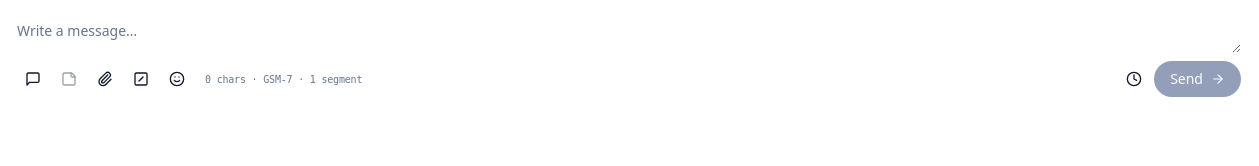
Composer reply/note toggle › typing / opens the saved-reply list and requests /api/v1/templates?q=hel as you type
Type "/hel" into the text box labelled "message". click: (629, 35)
box: x1=17 y1=17 x2=1241 y2=53
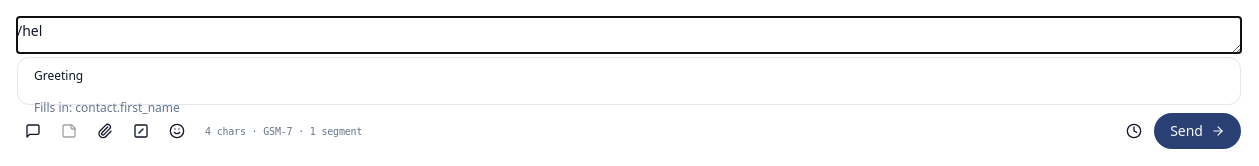
Now the list named "Insert a saved reply" is shown, box x1=17 y1=57 x2=1241 y2=105
